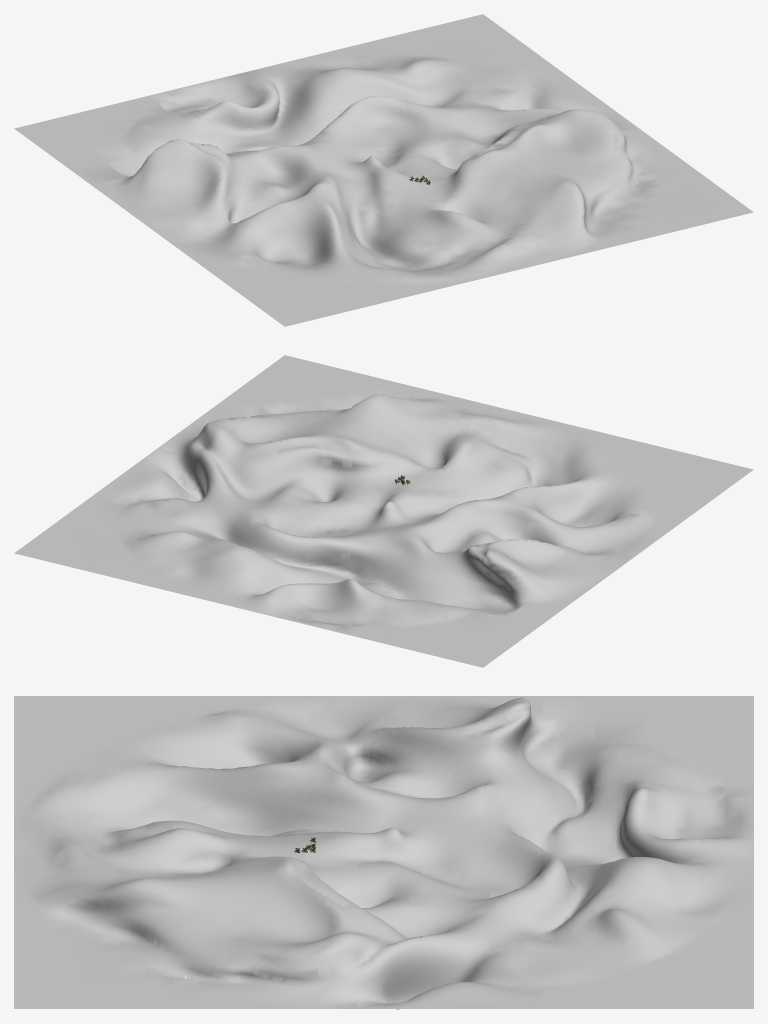
File: RollingHills.dae
The picture shows the model from 3 angles, top to bottom: view 1: azimuth 30°, elevation 25°; view 2: azimuth 150°, elevation 25°; view 3: azimuth 270°, elevation 25°; orthographic projection. The views are drawn at different scales.
Parts seen in each view (by area): view 1: TerrainCell (×49); view 2: TerrainCell (×49); view 3: TerrainCell (×49).
Part boxes in pixels (x1,y1,x2,y2): TerrainCell (×49): (14,14,753,326); TerrainCell (×49): (14,355,753,667); TerrainCell (×49): (14,696,753,1009).
Size of the model in its own units: 1000 by 132 by 1000.
Materials: 2 (1 with a texture image).
